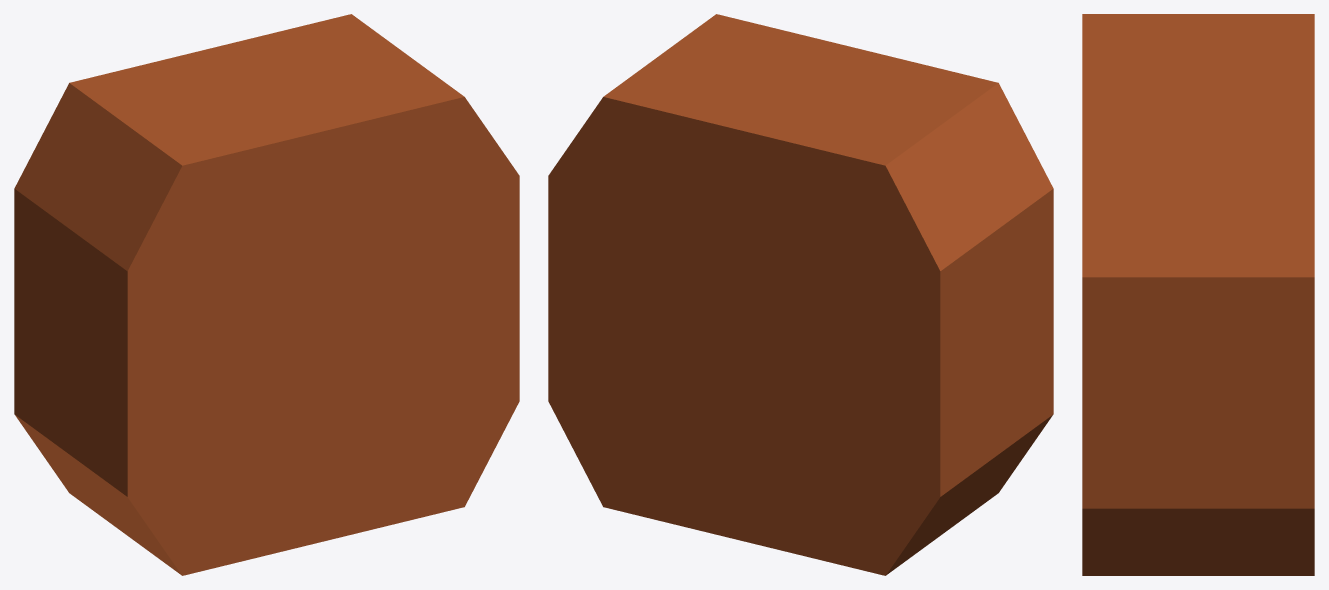
File: BridgeEscapeLink.obj
3 views of the same model, side by side, from view 1: azimuth 30°, elevation 25°; view 2: azimuth 150°, elevation 25°; view 3: azimuth 270°, elevation 25° (orthographic). The views are drawn at different scales.
Visible parts, largest first — view 1: BridgeEscapeLink; view 2: BridgeEscapeLink; view 3: BridgeEscapeLink.
Boxes of the visible parts, box(x1,y1,x2,y2) form: BridgeEscapeLink: box(14, 14, 519, 575); BridgeEscapeLink: box(548, 14, 1053, 575); BridgeEscapeLink: box(1082, 14, 1314, 575).
Size of the model in its own units: 2 by 2 by 1.
